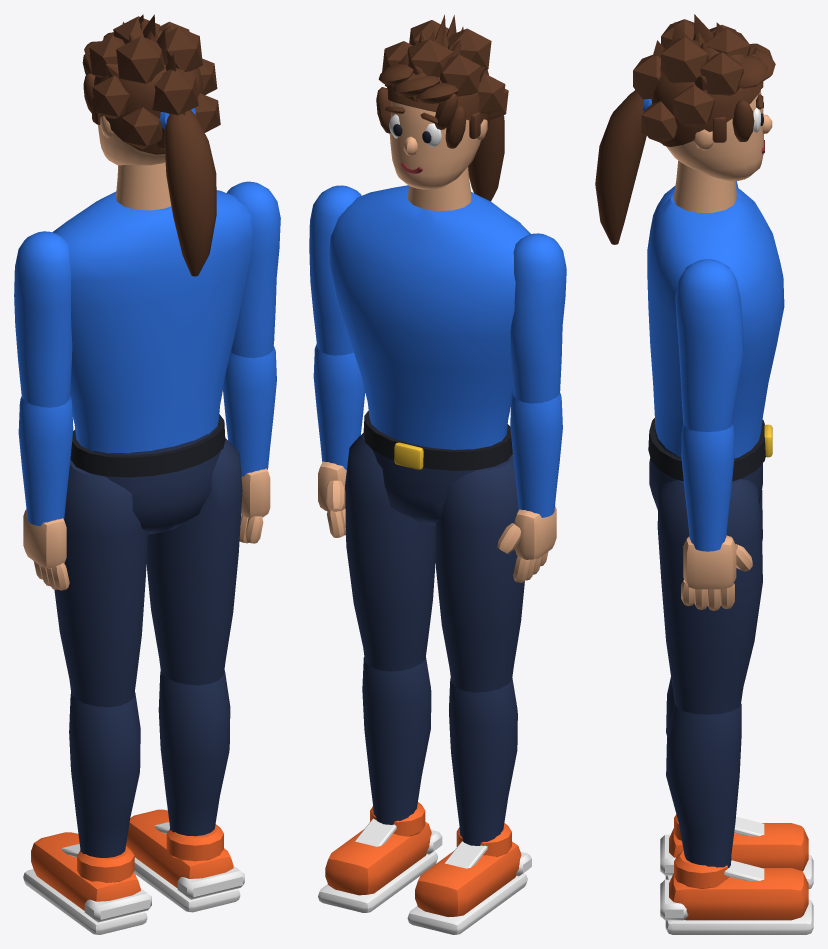
File: personnage.glb
The picture shows the model from 3 angles, left to right: view 1: azimuth 30°, elevation 25°; view 2: azimuth 150°, elevation 25°; view 3: azimuth 270°, elevation 25°; orthographic projection. The views are drawn at different scales.
Visible parts, largest first — view 1: torse, tibia_G, cuisse_G, tibia_D, cuisse_D, cheveux_3, bras_G, bassin, avantbras_G, avantbras_D, cheveux_2, bras_D (+2 smaller); view 2: torse, tibia_G, tibia_D, cuisse_G, cuisse_D, bras_G, avantbras_G, bassin, avantbras_D, cheveux_3, tete, bras_D (+3 smaller); view 3: torse, tibia_D, cuisse_D, bras_D, avantbras_D, cheveux_3, cheveux_2, tibia_G, tete, bassin, cheveux_4, cheveux_1.
Boxes of the visible parts, <box> form: torse: <box>52,162,253,453</box>; tibia_G: <box>23,692,151,934</box>; cuisse_G: <box>54,460,147,707</box>; tibia_D: <box>126,670,244,912</box>; cuisse_D: <box>146,438,242,685</box>; cheveux_3: <box>89,16,220,154</box>; bras_G: <box>14,231,72,407</box>; bassin: <box>70,414,225,534</box>; avantbras_G: <box>18,395,73,590</box>; avantbras_D: <box>223,346,276,543</box>; cheveux_2: <box>83,73,216,276</box>; bras_D: <box>227,181,280,357</box>; torse: <box>329,167,530,449</box>; tibia_G: <box>407,678,531,934</box>; tibia_D: <box>318,657,442,912</box>; cuisse_G: <box>435,454,524,692</box>; cuisse_D: <box>345,433,435,671</box>; bras_G: <box>510,233,566,403</box>; avantbras_G: <box>497,392,562,582</box>; bassin: <box>363,411,512,525</box>; avantbras_D: <box>313,344,365,537</box>; cheveux_3: <box>382,20,508,120</box>; tete: <box>385,101,487,189</box>; bras_D: <box>309,185,361,355</box>; torse: <box>647,161,784,458</box>; tibia_D: <box>660,703,813,934</box>; cuisse_D: <box>657,479,762,714</box>; bras_D: <box>675,259,744,431</box>; avantbras_D: <box>681,424,752,610</box>; cheveux_3: <box>633,19,764,146</box>; cheveux_2: <box>595,91,759,244</box>; tibia_G: <box>660,677,813,888</box>; tete: <box>666,83,772,181</box>; bassin: <box>648,418,772,509</box>; cheveux_4: <box>634,14,763,145</box>; cheveux_1: <box>707,43,775,142</box>.
Size of the model in its own units: 0.632 by 2.1 by 0.469.
